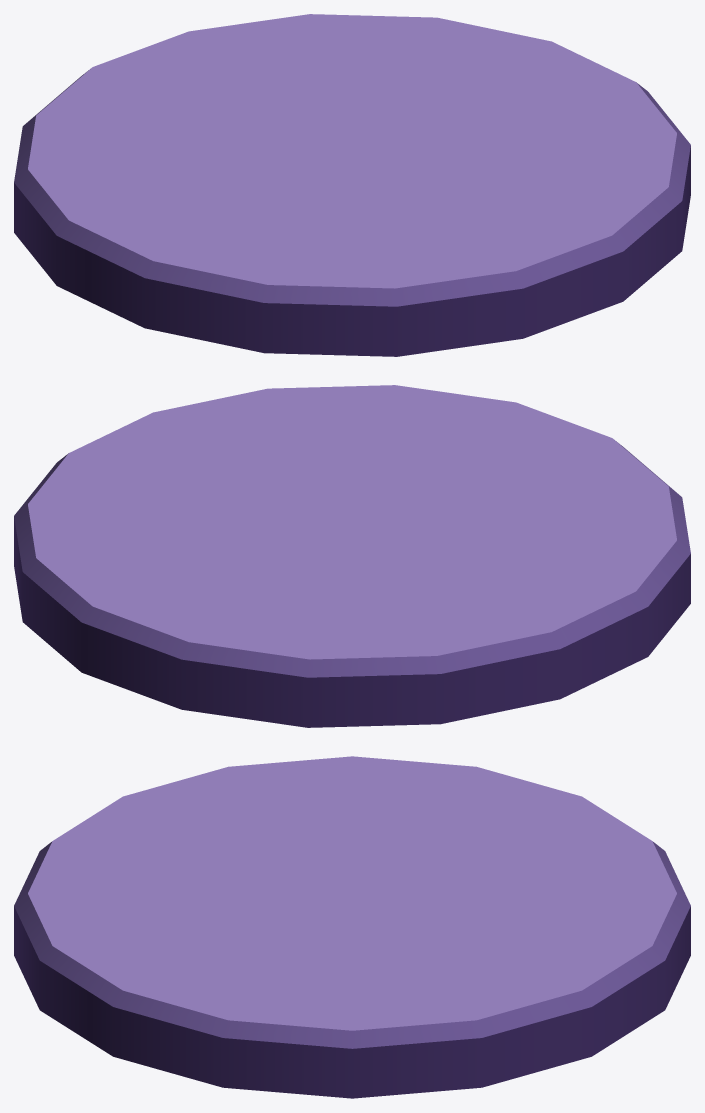
File: Ground.fbx
The picture shows the model from 3 angles, top to bottom: view 1: azimuth 30°, elevation 25°; view 2: azimuth 150°, elevation 25°; view 3: azimuth 270°, elevation 25°; orthographic projection.
Visible parts, largest first — view 1: Cylinder; view 2: Cylinder; view 3: Cylinder.
Boxes of the visible parts, bbox=[...] form: Cylinder: bbox=[14, 14, 690, 356]; Cylinder: bbox=[14, 385, 690, 727]; Cylinder: bbox=[14, 756, 690, 1098].
Bounding box in the file's own units: 3.17 × 0.3207 × 3.17.
